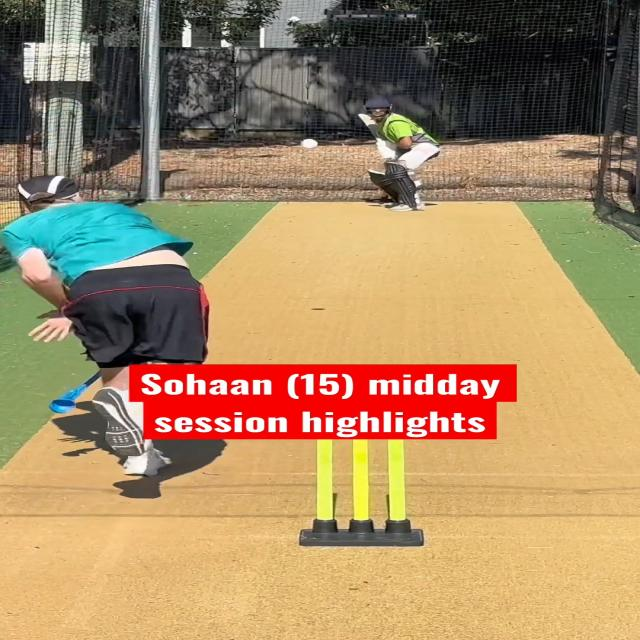ball: (301, 138, 319, 150)
stump: (310, 436, 420, 548)
